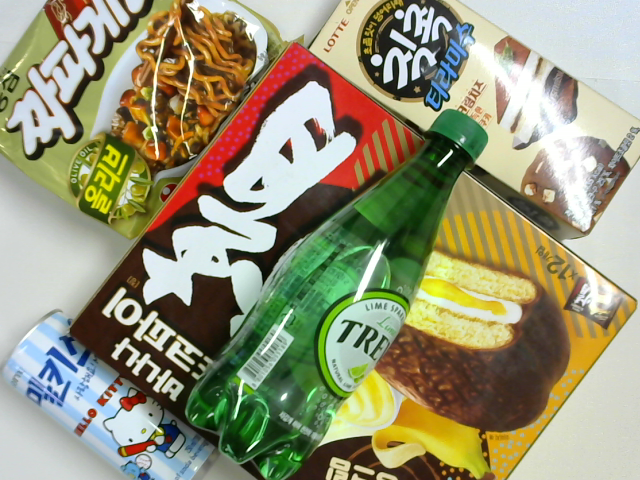Chicchok_Tiramisu: (305, 1, 640, 241)
Choco_Pie_Banana: (68, 43, 639, 479)
Milkies_250ml: (1, 309, 219, 479)
Olive_Chapaghetti: (1, 1, 304, 242)
Treviraim_500ml: (186, 108, 489, 480)
